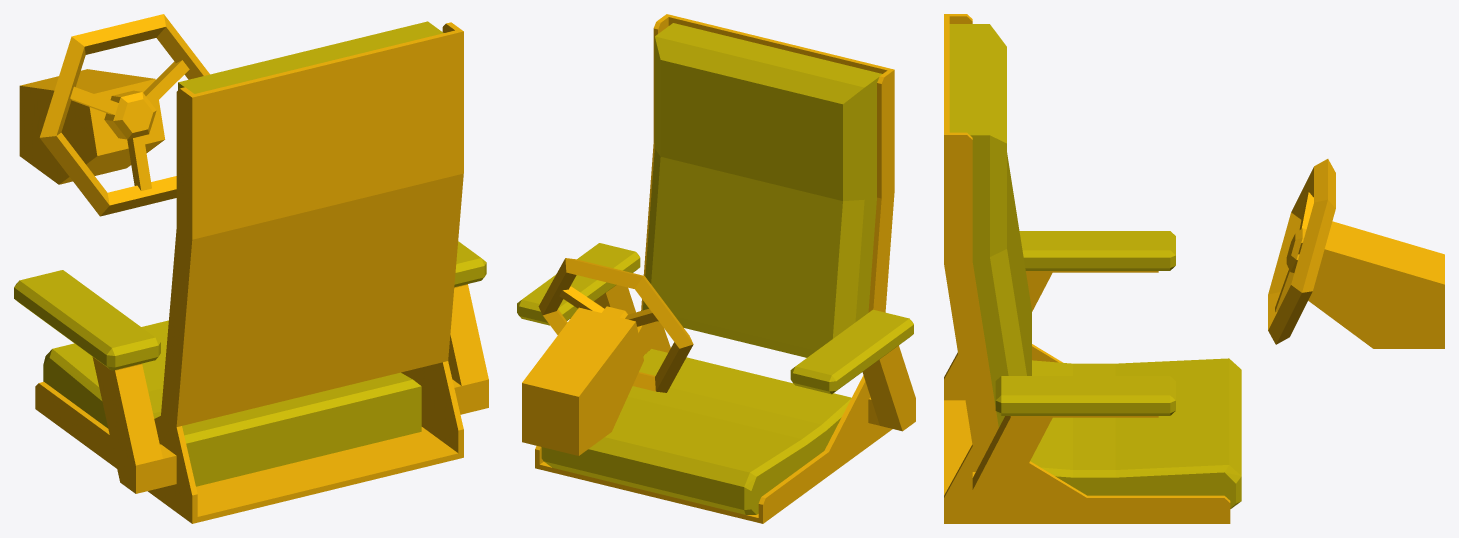
Rendered from seat_car_driver.dae.
3 views of the same model, side by side, from view 1: azimuth 30°, elevation 25°; view 2: azimuth 150°, elevation 25°; view 3: azimuth 270°, elevation 25° (orthographic). The views are drawn at different scales.
Visible parts, largest first — view 1: Cube; view 2: Cube; view 3: Cube.
Part boxes in pixels (x1,y1,x2,y2): Cube: (14, 14, 488, 523); Cube: (517, 14, 915, 523); Cube: (944, 14, 1444, 523).
Size of the model in its own units: 0.7 by 0.875 by 0.75.
